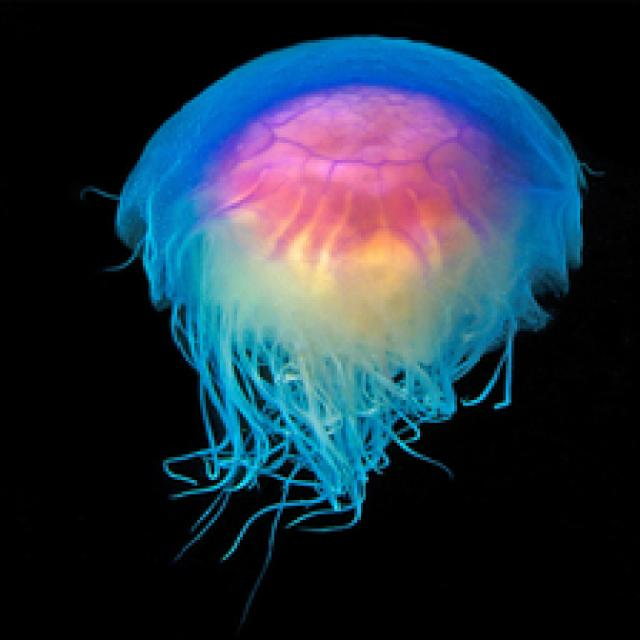Jellyfish: (83, 31, 597, 632)
